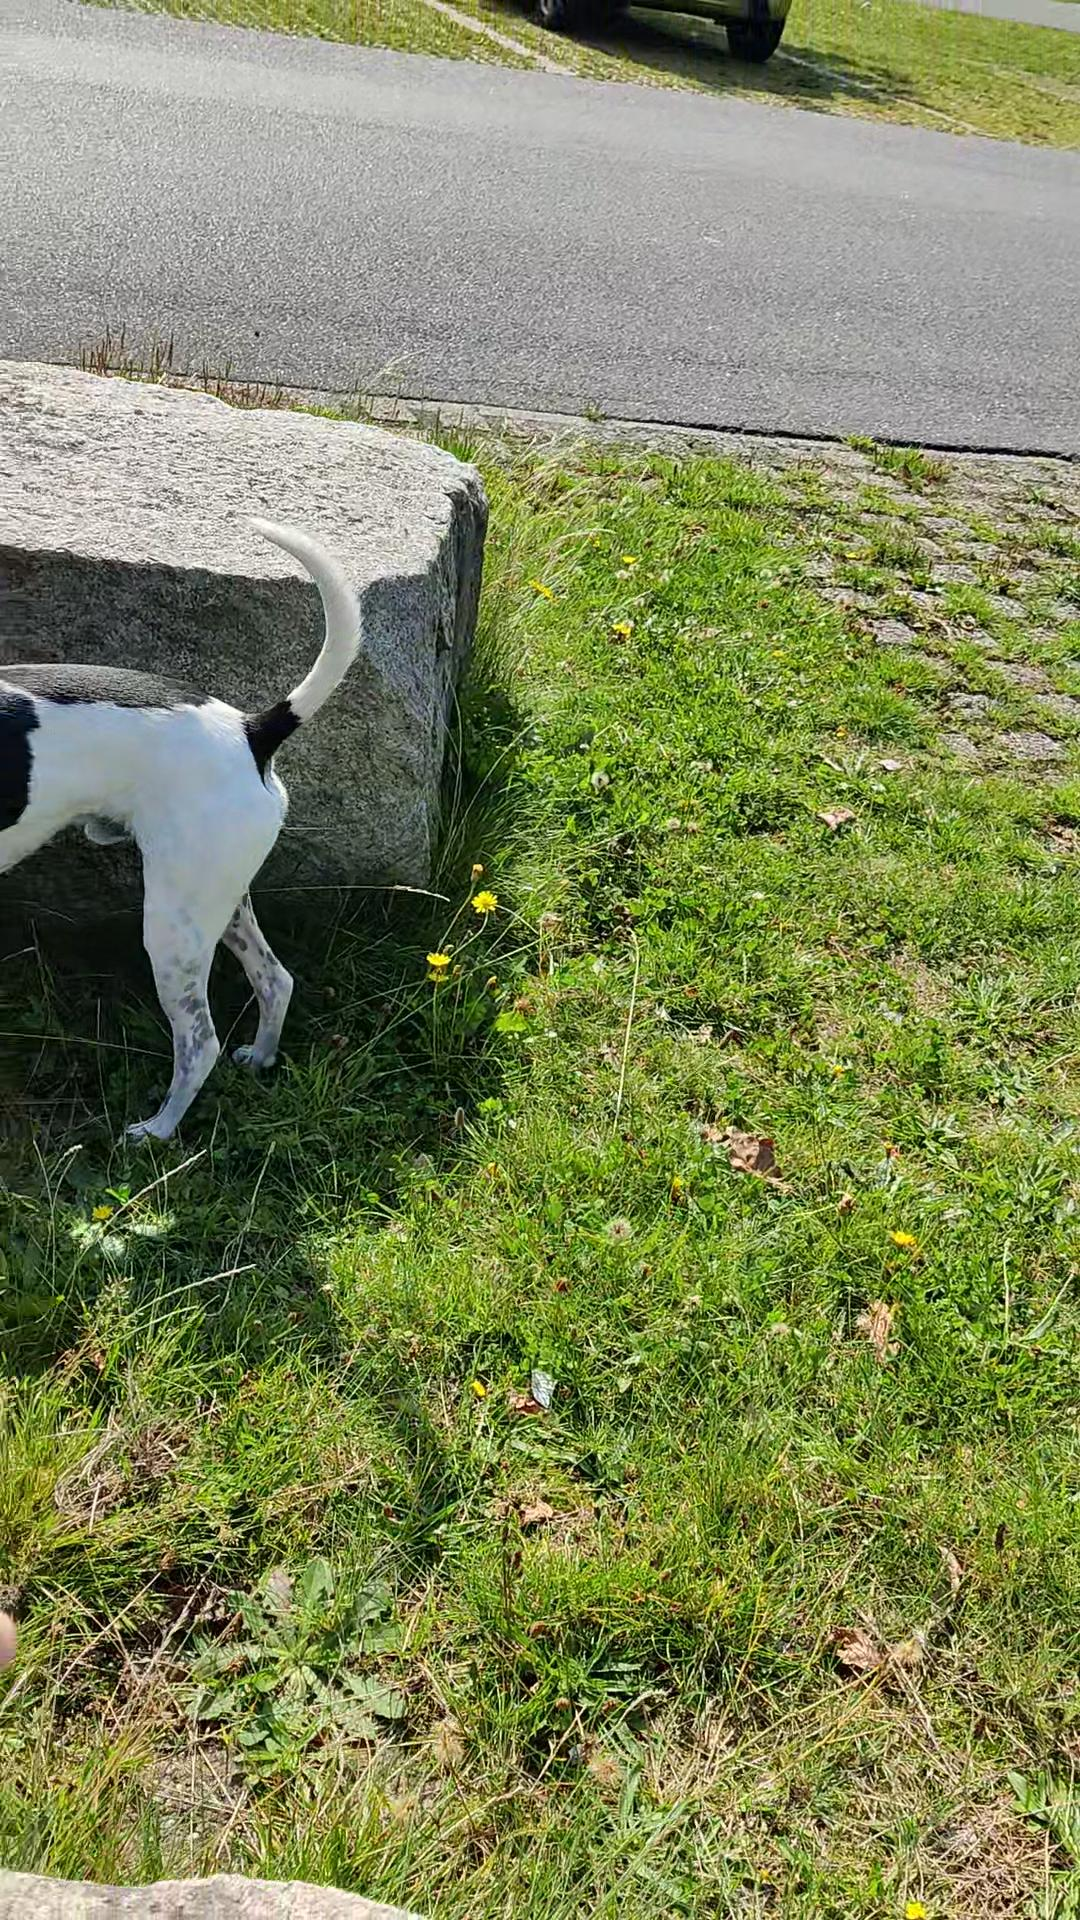Dog: (0, 508, 371, 1146)
